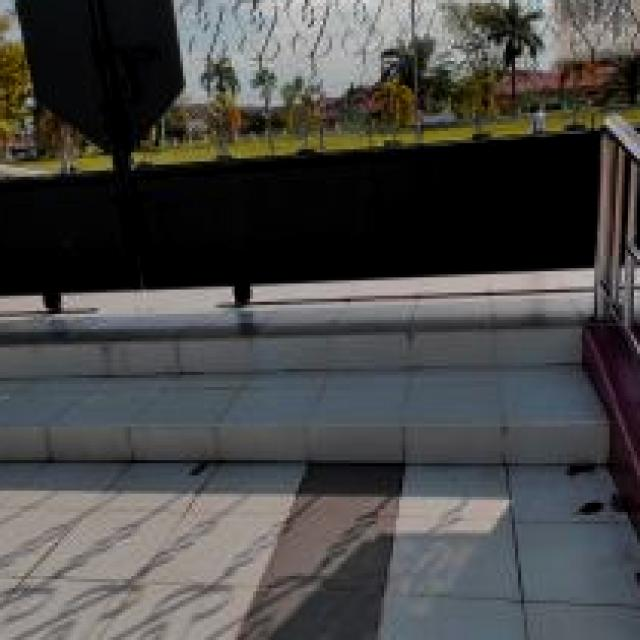upstair: (1, 312, 623, 473)
